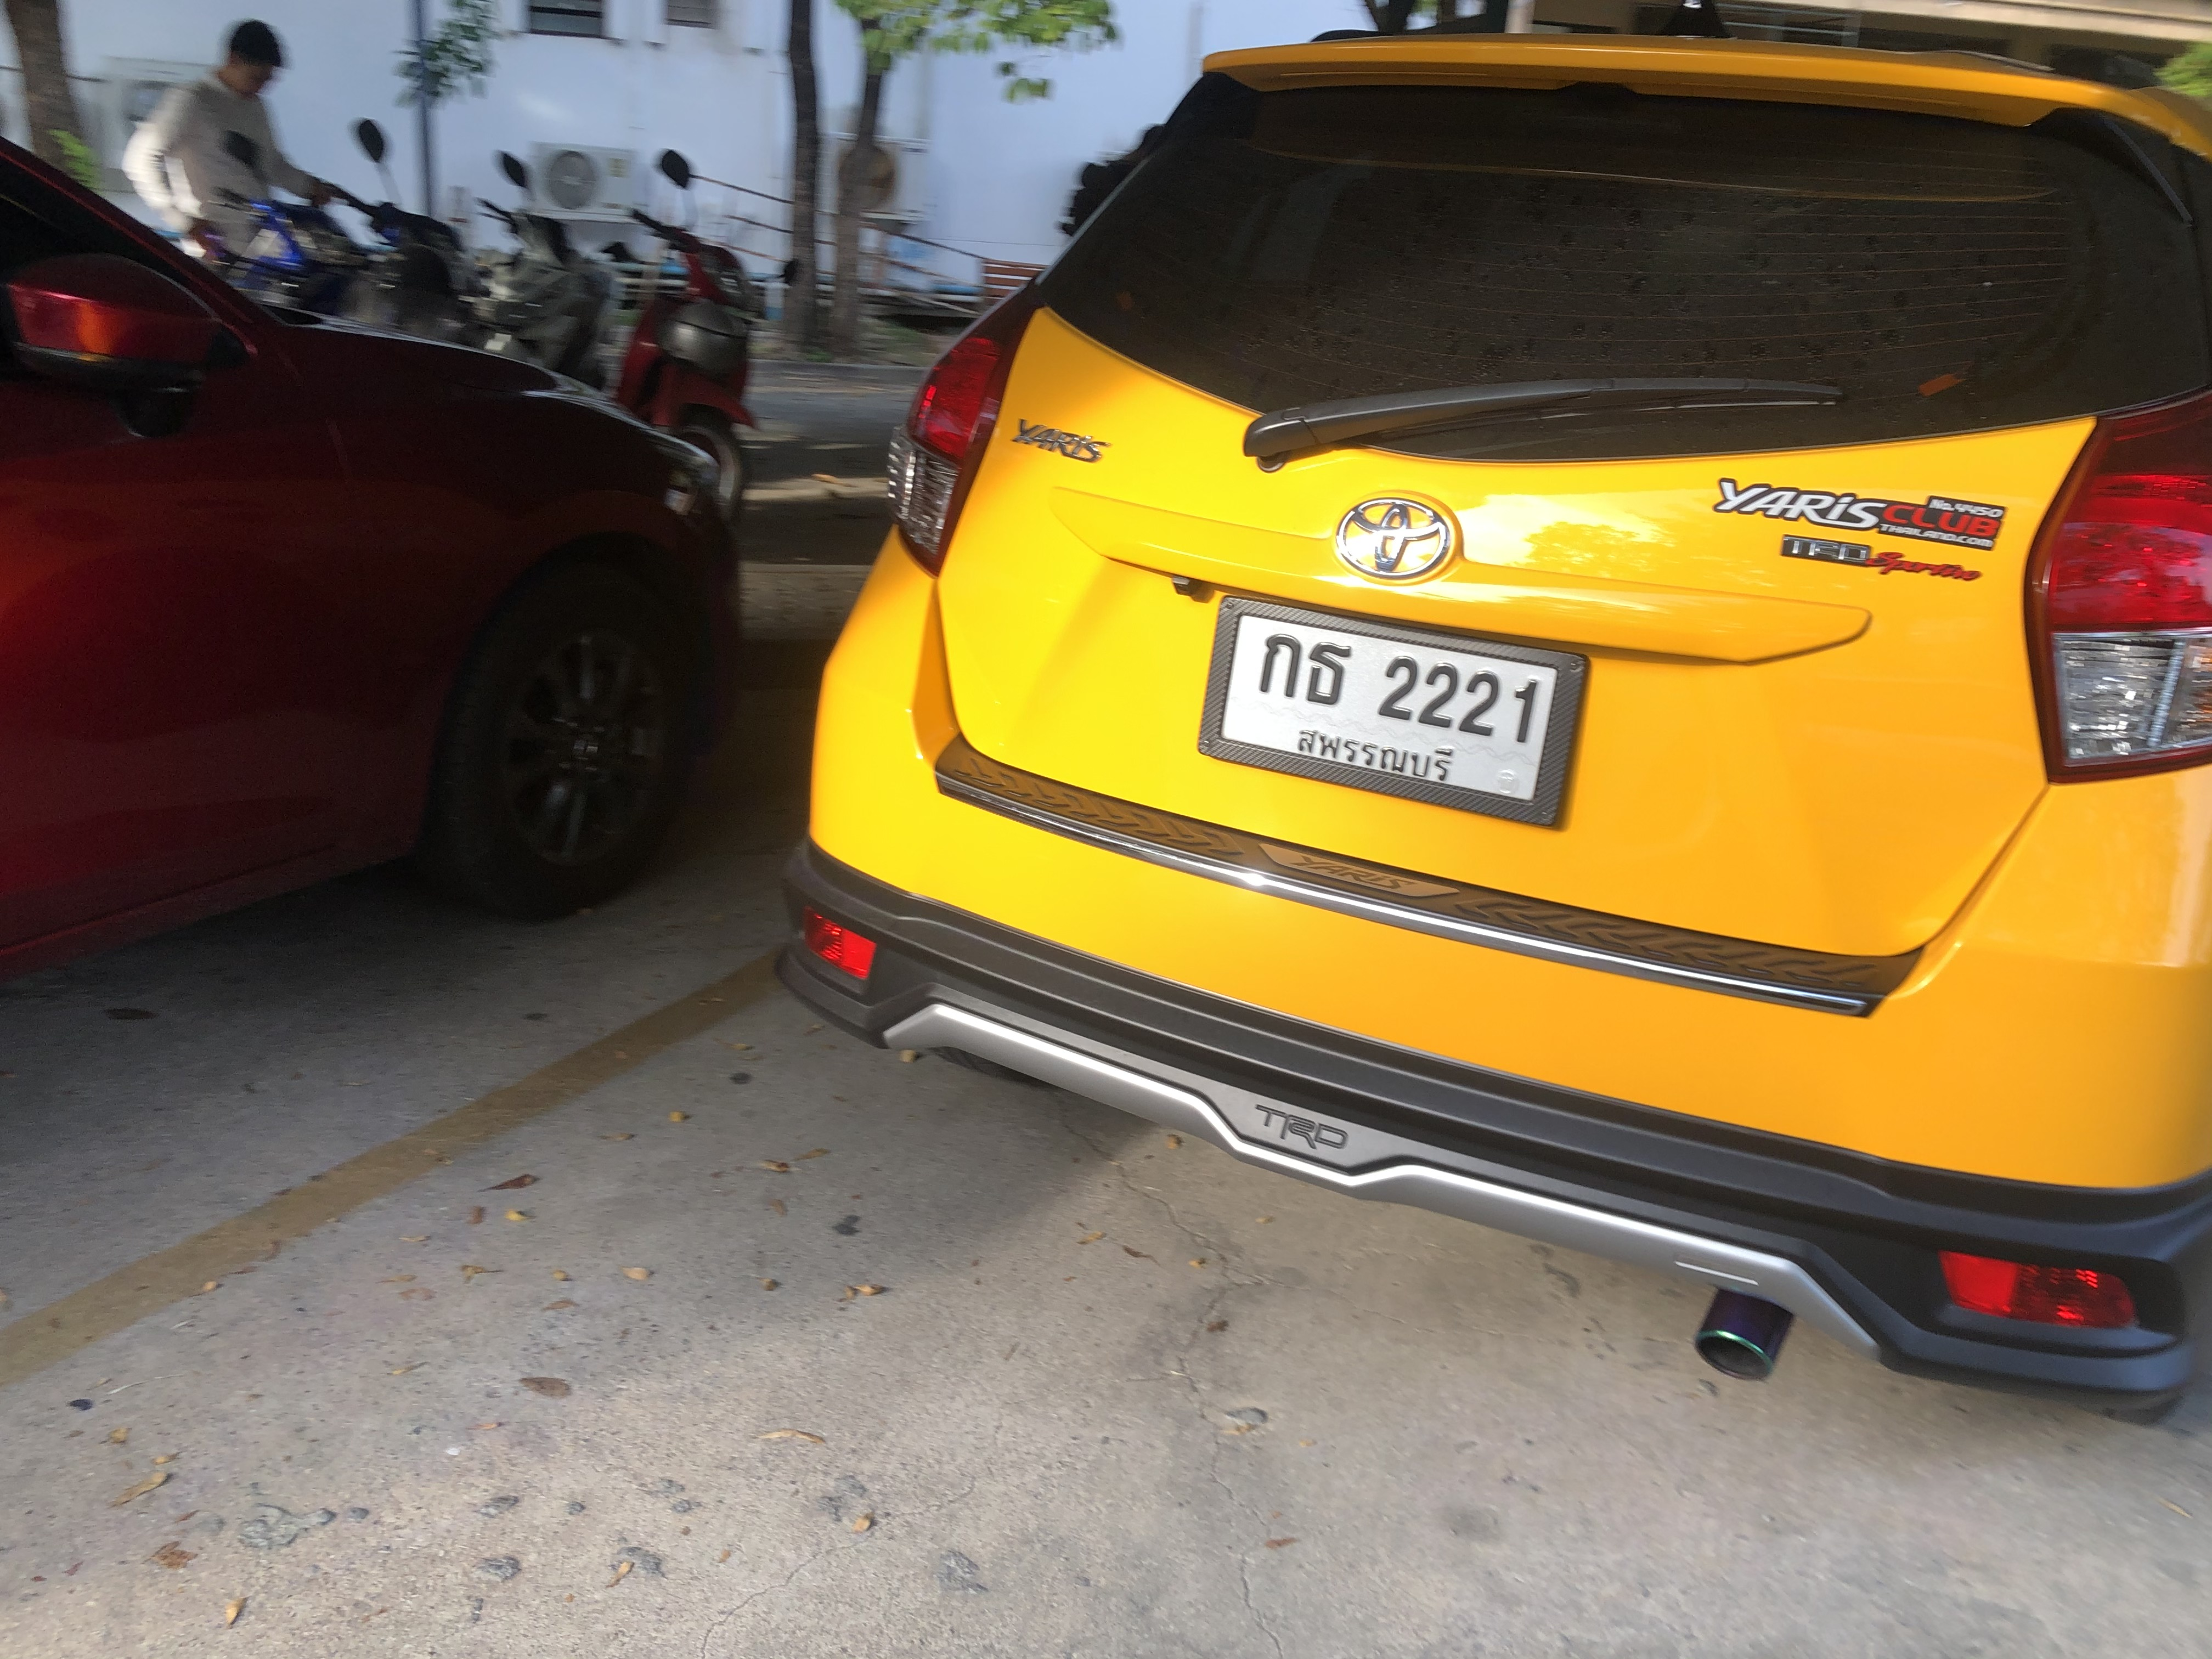in: (1221, 610, 1554, 802)
out: (1197, 592, 1590, 835)
